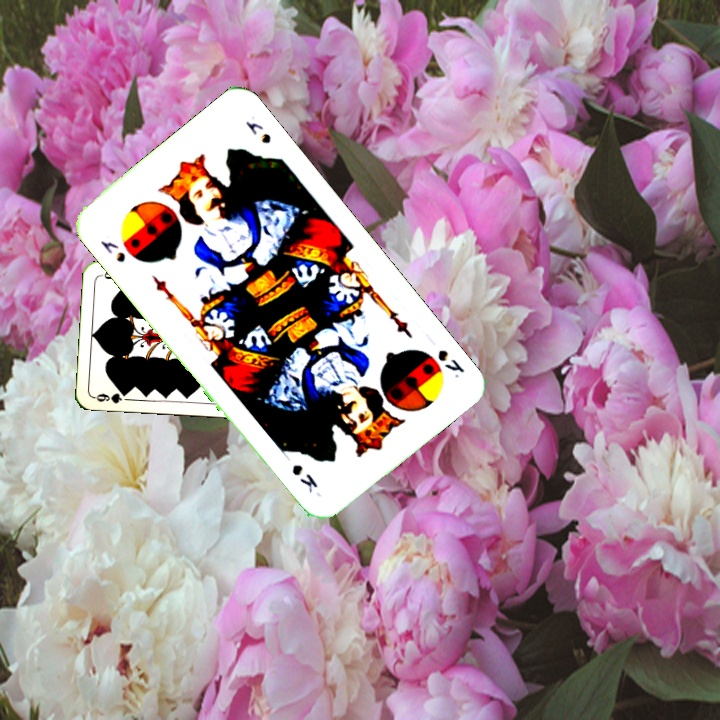G9: (90, 387, 131, 406)
SK: (433, 345, 468, 381), (96, 236, 129, 266)
